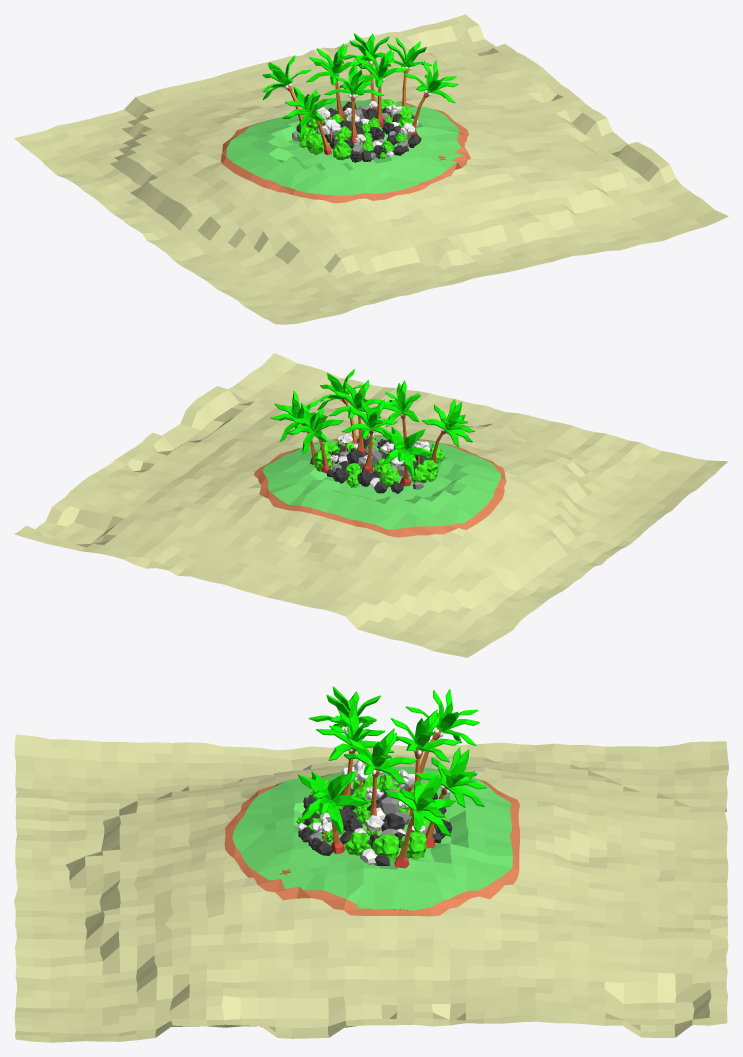
The model's file is IslandThree.glb.
3 views of the same model, one above another, from view 1: azimuth 30°, elevation 25°; view 2: azimuth 150°, elevation 25°; view 3: azimuth 270°, elevation 25° (orthographic). The views are drawn at different scales.
Visible parts, largest first — view 1: Plane.001, Palmtree.001, Palmtree.005, Palmtree.006, Palmtree.004, Palmtree.003, Palmtree.000, Palmtree.002, Palmtree.007; view 2: Plane.001, Palmtree.000, Palmtree.002, Palmtree.001, Palmtree.005, Palmtree.004, Palmtree.006, Palmtree.007, Palmtree.003; view 3: Plane.001, Palmtree.003, Palmtree.007, Palmtree.002, Palmtree.004, Palmtree.006, Palmtree.005, Palmtree.000, Palmtree.001.
Part boxes in pixels (x1,y1,x2,y2): Plane.001: (14,14,728,324); Palmtree.001: (282,86,337,154); Palmtree.005: (306,43,359,120); Palmtree.006: (324,63,383,143); Palmtree.004: (356,48,407,126); Palmtree.003: (404,60,458,136); Palmtree.000: (262,55,311,132); Palmtree.002: (342,33,389,111); Palmtree.007: (380,37,431,106); Plane.001: (14,353,728,657); Palmtree.000: (382,426,432,486); Palmtree.002: (286,403,343,473); Palmtree.001: (421,399,474,464); Palmtree.005: (341,399,397,472); Palmtree.004: (328,380,382,454); Palmtree.006: (372,380,420,439); Palmtree.007: (270,391,325,464); Palmtree.003: (317,369,369,443); Plane.001: (14,734,728,1042); Palmtree.003: (298,771,367,854); Palmtree.007: (384,774,455,868); Palmtree.002: (414,747,486,848); Palmtree.004: (343,728,417,830); Palmtree.006: (316,704,394,795); Palmtree.005: (391,709,460,815); Palmtree.000: (405,689,479,791); Palmtree.001: (309,686,380,766).
Size of the model in its own units: 57.52 by 15.93 by 57.52.
